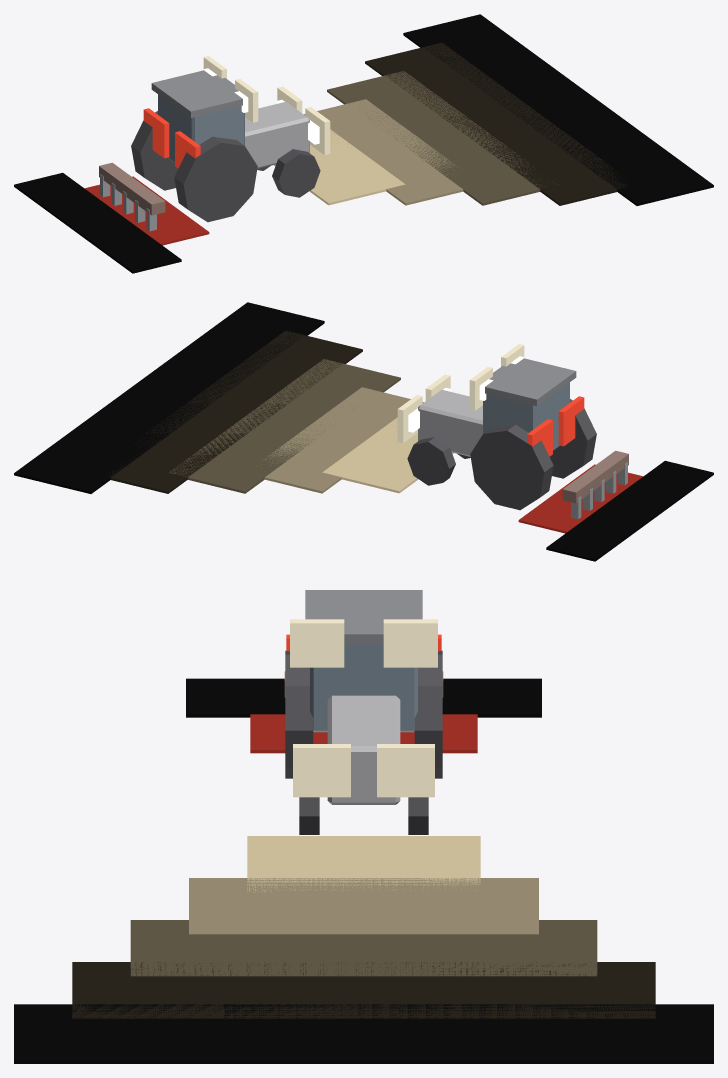
Rendered from veh_tractor.glb.
3 renders of one model, top to bottom at view 1: azimuth 30°, elevation 25°; view 2: azimuth 150°, elevation 25°; view 3: azimuth 270°, elevation 25°, orthographic. The views are drawn at different scales.
Parts seen in each view (by area): view 1: veh_tractor; view 2: veh_tractor; view 3: veh_tractor.
Part boxes in pixels (x1,y1,x2,y2): veh_tractor: (14, 14, 713, 273); veh_tractor: (14, 302, 713, 561); veh_tractor: (14, 590, 713, 1063).
Bounding box in the file's own units: 1 × 0.217 × 0.7728.
